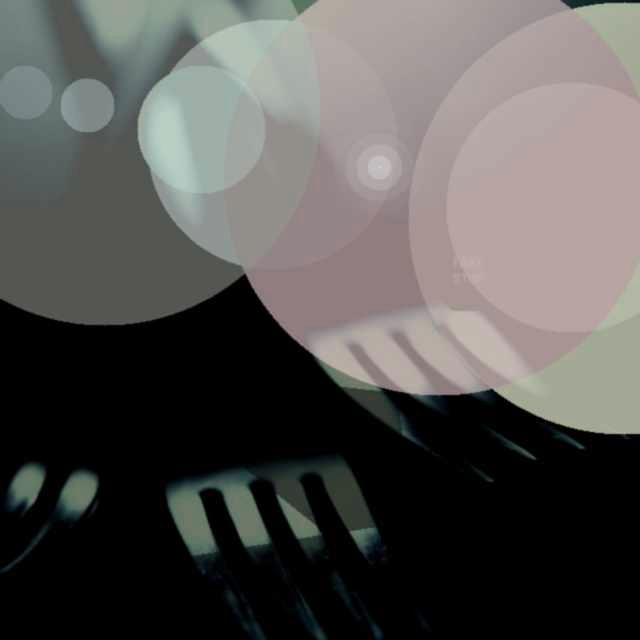FAKE_STOP: (427, 225, 510, 311)
